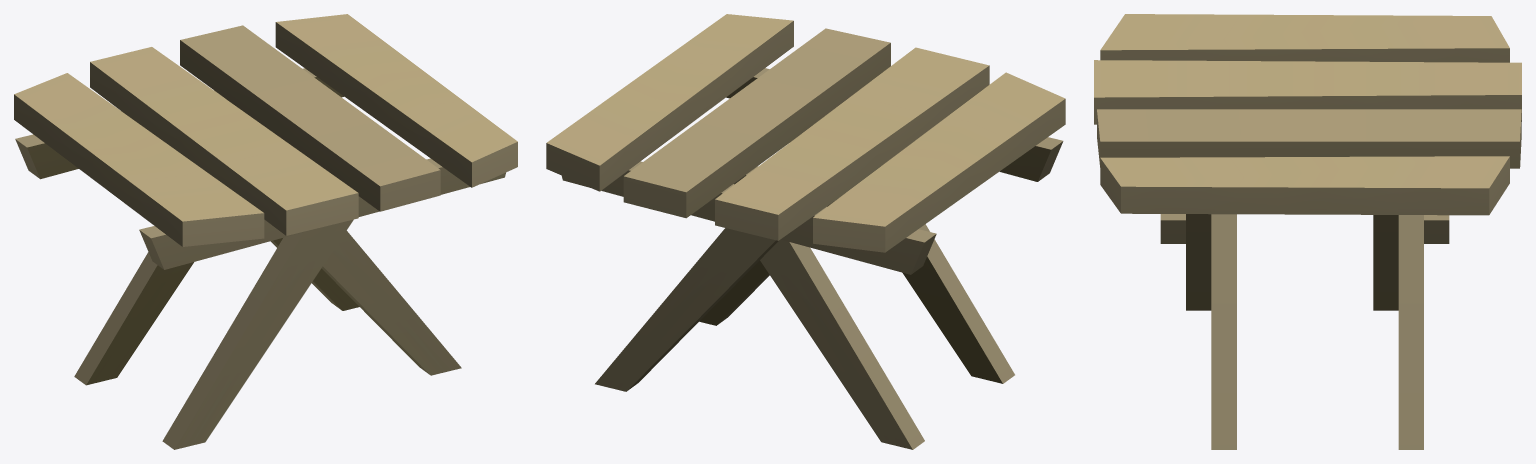
The model's file is TSP_Wood_Table_01A.fbx.
3 views of the same model, side by side, from view 1: azimuth 30°, elevation 25°; view 2: azimuth 150°, elevation 25°; view 3: azimuth 270°, elevation 25° (orthographic). The views are drawn at different scales.
Parts seen in each view (by area): view 1: TSP_Wood_Table_01A; view 2: TSP_Wood_Table_01A; view 3: TSP_Wood_Table_01A.
Boxes of the visible parts, left/top/right/bottom form: TSP_Wood_Table_01A: left=14, top=14, right=517, bottom=449; TSP_Wood_Table_01A: left=546, top=14, right=1065, bottom=449; TSP_Wood_Table_01A: left=1094, top=14, right=1521, bottom=449.
Bounding box in the file's own units: 0.7419 × 0.5 × 0.7176.
